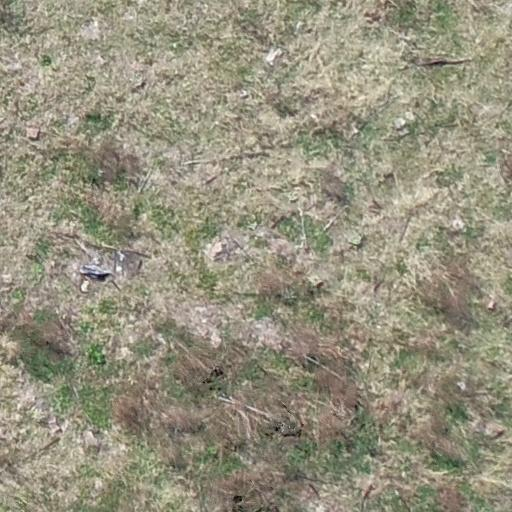stone: (74, 263, 113, 283), (369, 159, 396, 177), (84, 434, 102, 460), (5, 336, 20, 366), (403, 110, 430, 126), (346, 228, 362, 254), (81, 429, 101, 449), (264, 51, 284, 70), (448, 216, 469, 234), (74, 275, 93, 293), (117, 344, 135, 362), (206, 242, 229, 256), (209, 330, 222, 351), (392, 116, 410, 131), (308, 276, 327, 290), (490, 422, 503, 440), (66, 115, 80, 130), (49, 429, 62, 442), (246, 134, 260, 146), (260, 136, 273, 148), (404, 110, 416, 122), (238, 89, 250, 99), (28, 128, 38, 139), (132, 79, 143, 89), (488, 297, 494, 312), (360, 366, 367, 377)
